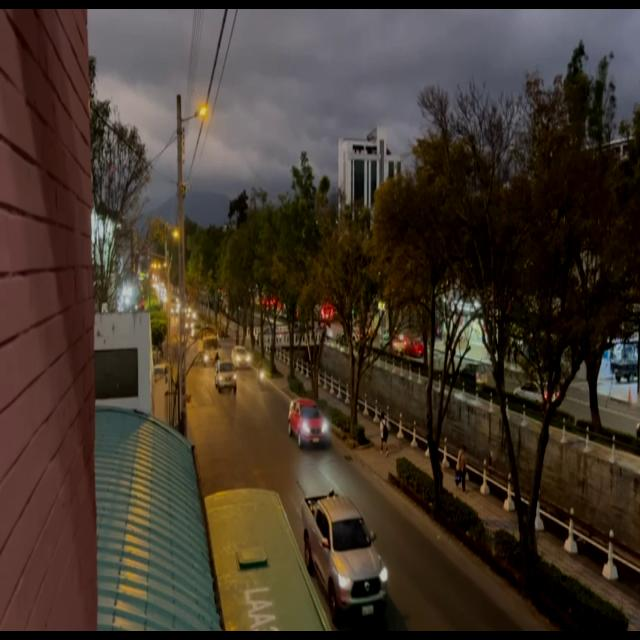CMT: (306, 499, 385, 620)
SUV: (290, 401, 323, 446)
